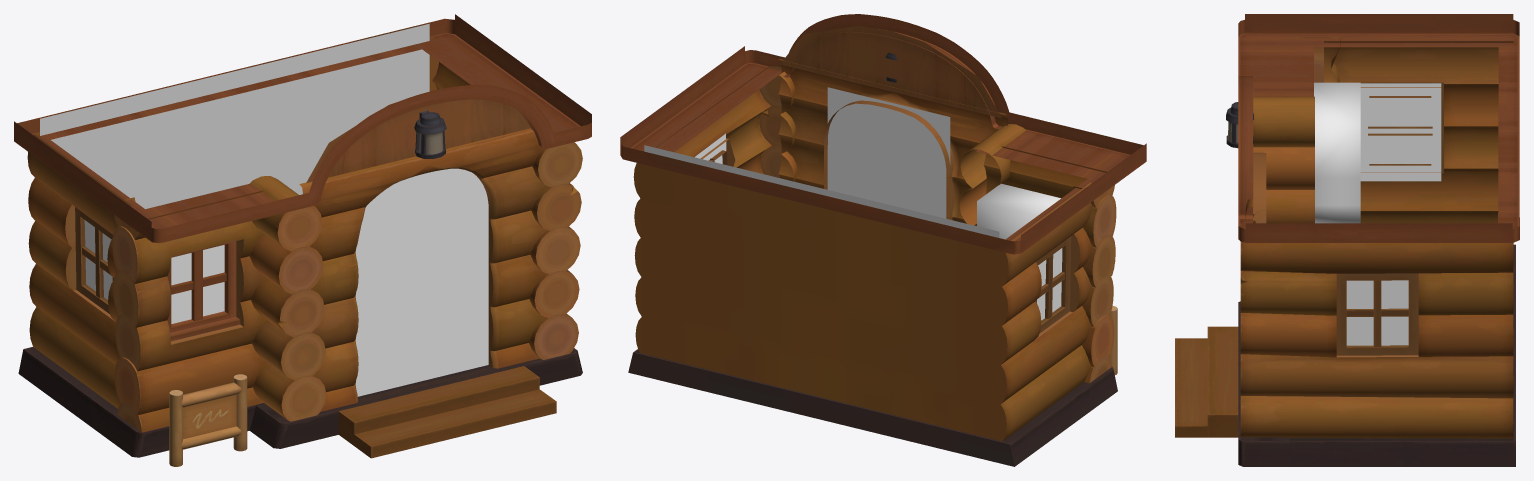
File: wall_nb_log_aglb.glb
3 renders of one model, left to right at view 1: azimuth 30°, elevation 25°; view 2: azimuth 150°, elevation 25°; view 3: azimuth 270°, elevation 25°, orthographic. The views are drawn at different scales.
Visible parts, largest first — view 1: Base_low__mWallA, WallBack__mHouseInner, SoftMesh__mSoftMesh, Bord_low__mSignboard, WindowFront__mWindowGlass, Base01_low__mLamp, WindowL__mSideWindow; view 2: Base_low__mWallA, SoftMesh__mSoftMesh, HouseInner_1__mHouseInner, WallBack__mHouseInner, WindowL__mSideWindow; view 3: Base_low__mWallA, WindowL__mSideWindow, HouseInner_1__mHouseInner, Base01_low__mLamp.
Part boxes in pixels (box(x1,y1,x2,y2)): Base_low__mWallA: box(14, 14, 591, 458); WallBack__mHouseInner: box(40, 23, 429, 208); SoftMesh__mSoftMesh: box(355, 168, 488, 396); Bord_low__mSignboard: box(169, 374, 247, 466); WindowFront__mWindowGlass: box(171, 245, 224, 323); Base01_low__mLamp: box(414, 110, 446, 158); WindowL__mSideWindow: box(84, 220, 112, 299); Base_low__mWallA: box(620, 14, 1146, 466); SoftMesh__mSoftMesh: box(827, 87, 950, 218); HouseInner_1__mHouseInner: box(977, 183, 1060, 239); WallBack__mHouseInner: box(644, 145, 999, 237); WindowL__mSideWindow: box(695, 133, 1062, 320); Base_low__mWallA: box(1175, 14, 1519, 466); WindowL__mSideWindow: box(1346, 83, 1441, 345); HouseInner_1__mHouseInner: box(1314, 82, 1360, 223); Base01_low__mLamp: box(1226, 102, 1253, 148).
Size of the model in its own units: 39.24 by 27.32 by 27.3.
8 materials, 3 textured.
